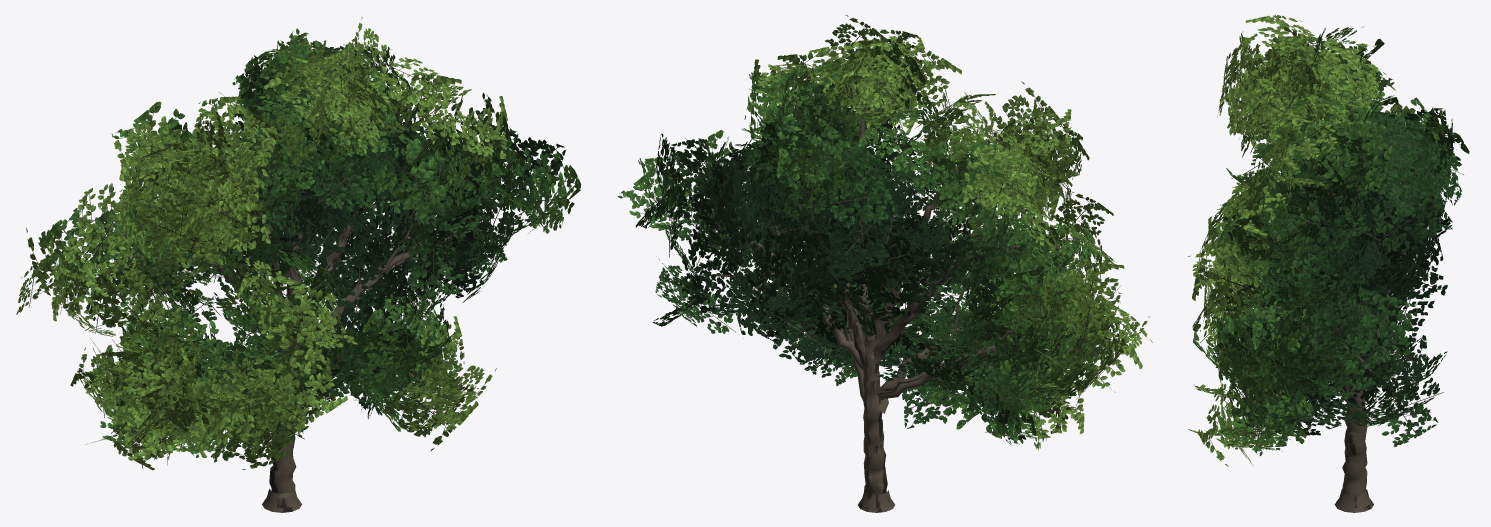
The model's file is BGV_background_tree.glb.
The picture shows the model from 3 angles, left to right: view 1: azimuth 30°, elevation 25°; view 2: azimuth 150°, elevation 25°; view 3: azimuth 270°, elevation 25°; orthographic projection. The views are drawn at different scales.
Parts seen in each view (by area): view 1: BGV_tree_foliage, BGV_tree_branches, BGV_tree_trunk; view 2: BGV_tree_foliage, BGV_tree_branches, BGV_tree_trunk; view 3: BGV_tree_foliage, BGV_tree_trunk.
Boxes of the visible parts, x1,y1,x2,y2 form: BGV_tree_foliage: (16, 16, 581, 470); BGV_tree_branches: (122, 87, 482, 405); BGV_tree_trunk: (262, 348, 301, 512); BGV_tree_foliage: (617, 15, 1152, 450); BGV_tree_branches: (704, 80, 1094, 413); BGV_tree_trunk: (858, 335, 894, 512); BGV_tree_foliage: (1187, 15, 1469, 466); BGV_tree_trunk: (1334, 382, 1373, 512).
Size of the model in its own units: 8.19 by 7.05 by 3.87.
Materials: 2 (2 with a texture image).
